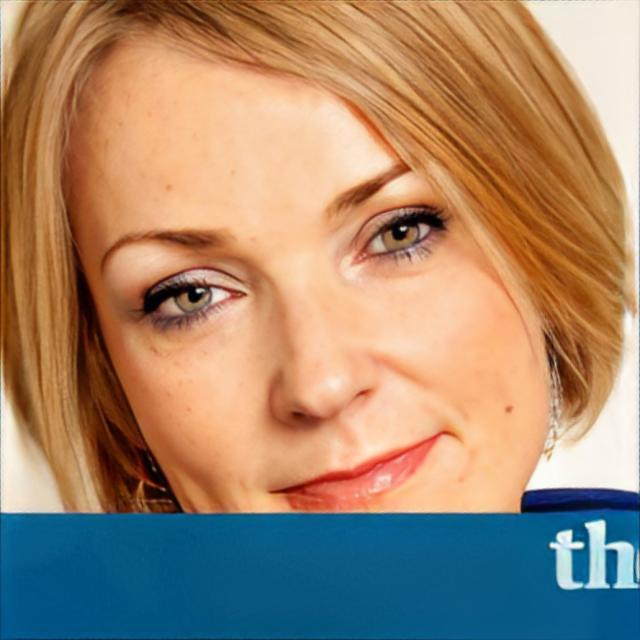content: (68, 16, 553, 511)
